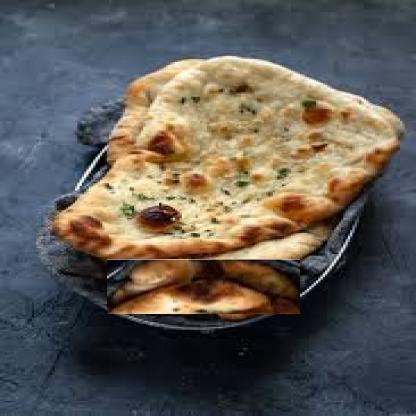naan: (57, 54, 400, 262), (111, 57, 405, 285), (106, 259, 300, 314)
